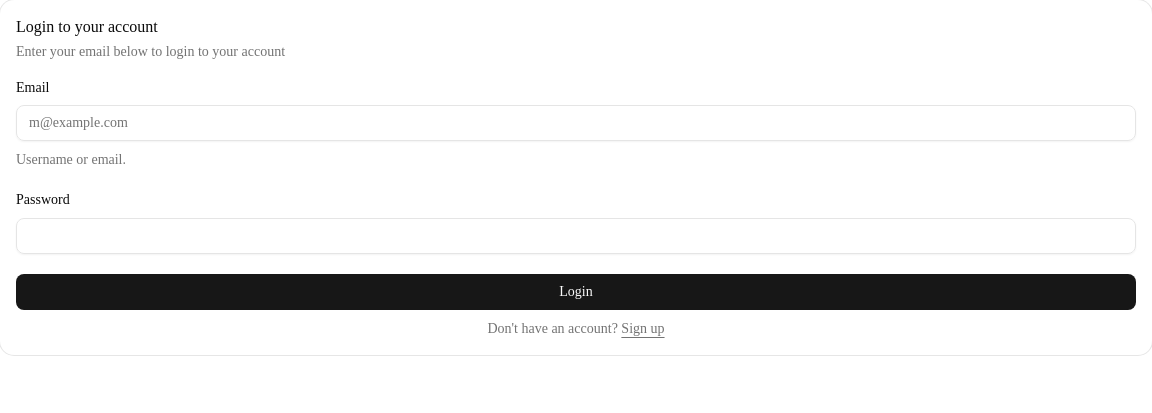
Phase 4: auth UI › shows a generic login error and does not claim the email is missing
Type "ada" into the field labelled "Email" at point(576, 123), box x1=16 y1=105 x2=1136 y2=141
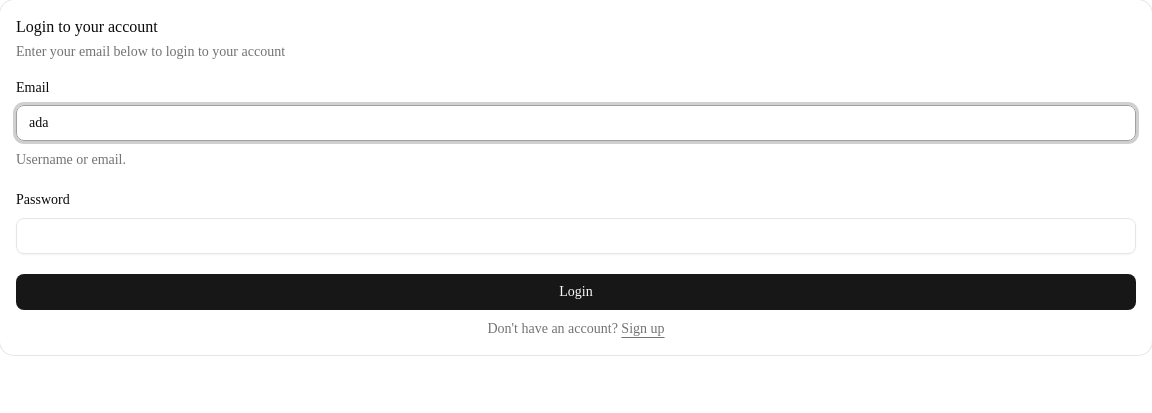
Type "wrong-password" into the password field labelled "Password" at point(576, 236), box x1=16 y1=218 x2=1136 y2=254
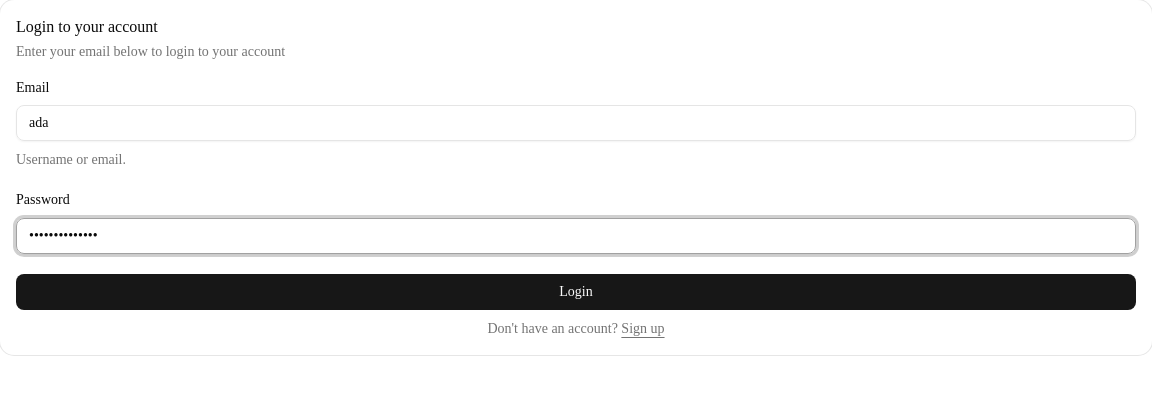
Click the button "Login" at point(576, 292), box x1=16 y1=274 x2=1136 y2=310
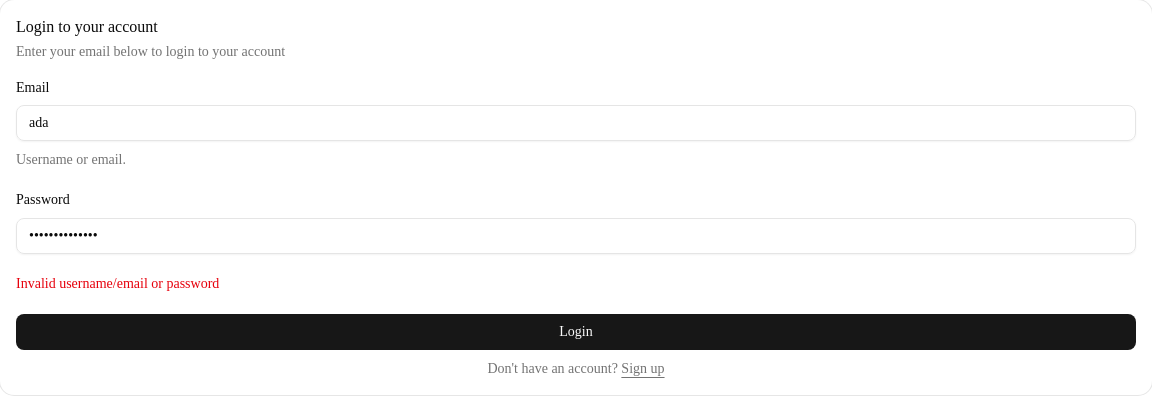
Expected: the text "Invalid username/email or password" is shown, x1=16 y1=276 x2=219 y2=290
